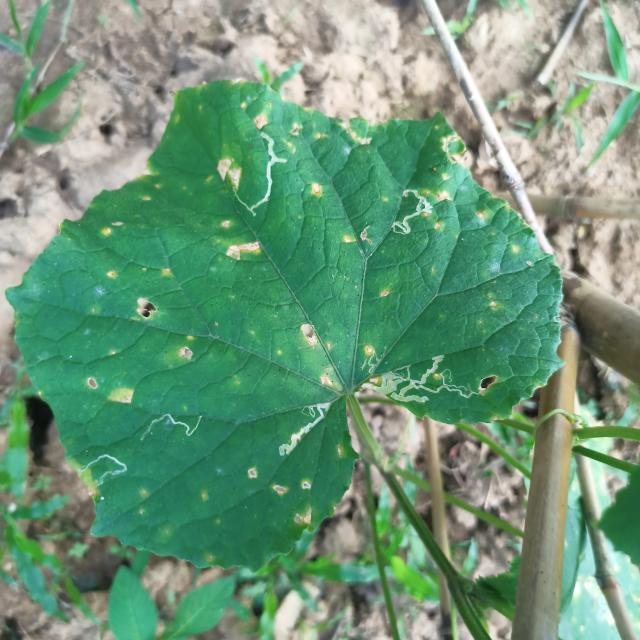disease_cucumber: (88, 263, 174, 327), (428, 134, 471, 238), (242, 466, 313, 525), (280, 117, 372, 153), (233, 79, 275, 129), (87, 370, 137, 408), (220, 220, 260, 262), (296, 318, 334, 352), (336, 226, 374, 251), (215, 158, 245, 188), (318, 365, 344, 391), (101, 218, 125, 242), (177, 334, 197, 362), (303, 178, 322, 200), (475, 208, 491, 226), (484, 292, 499, 310), (376, 286, 392, 302), (508, 243, 520, 256), (362, 344, 374, 354), (368, 376, 380, 385)
